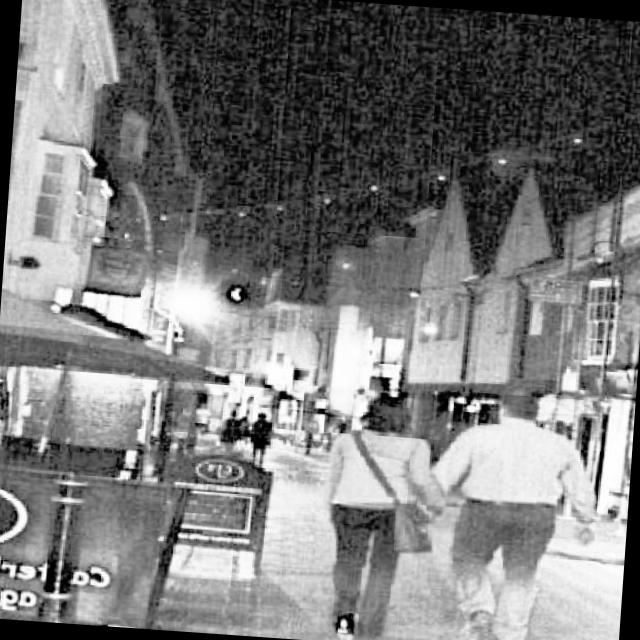Person: (405, 381, 607, 640), (305, 385, 456, 640)
